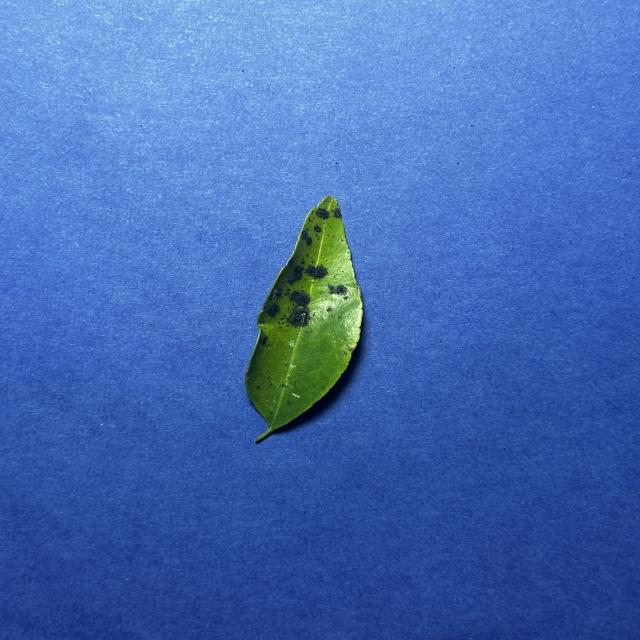sooty_mold: (245, 196, 363, 442)
